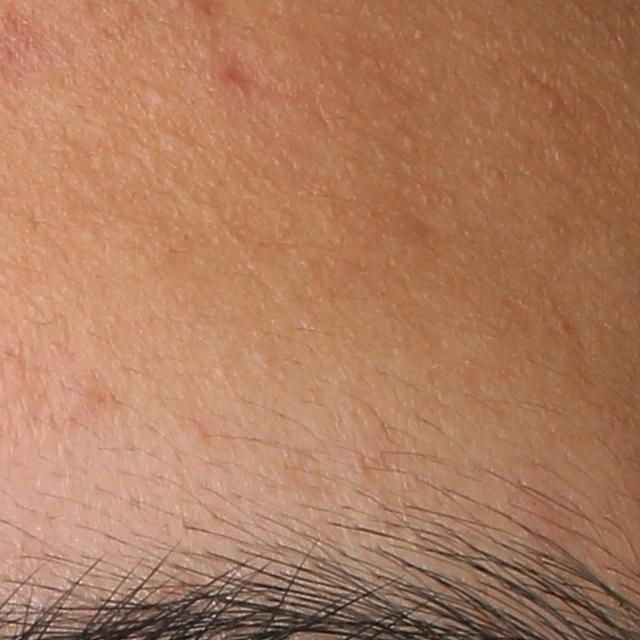comedo: (143, 82, 165, 107)
